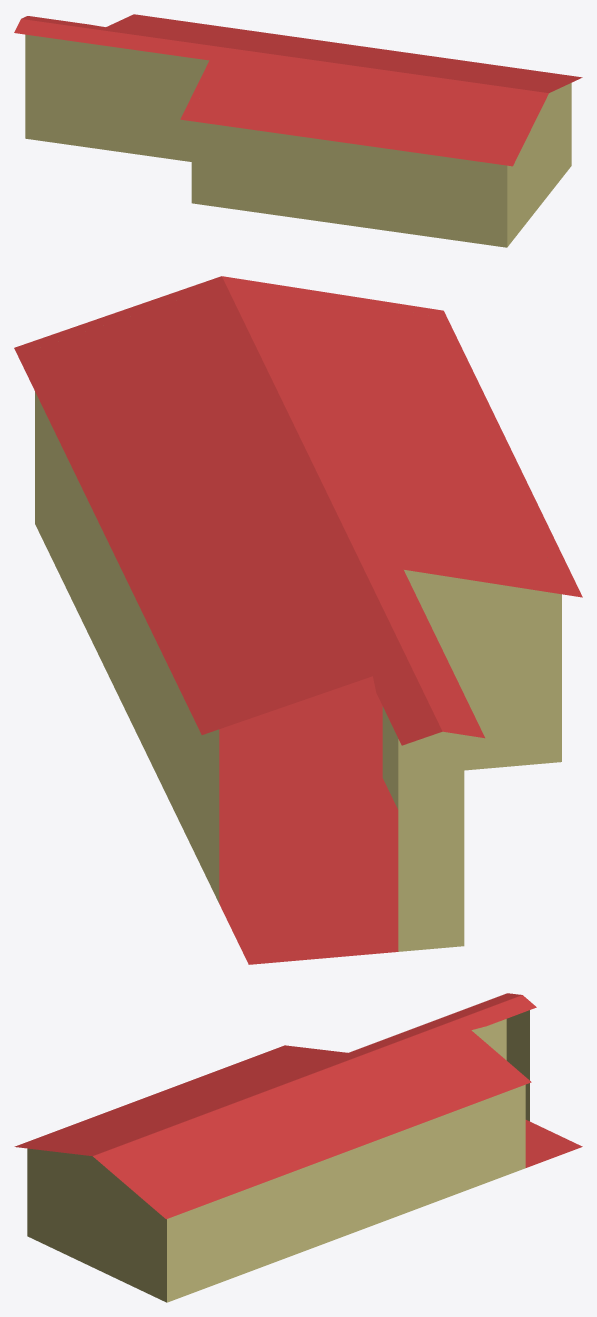
3 views of the same model, one above another, from view 1: azimuth 30°, elevation 25°; view 2: azimuth 150°, elevation 25°; view 3: azimuth 270°, elevation 25° (orthographic). The views are drawn at different scales.
Bounding box in the file's own units: 25.76 × 30.44 × 6.91.
